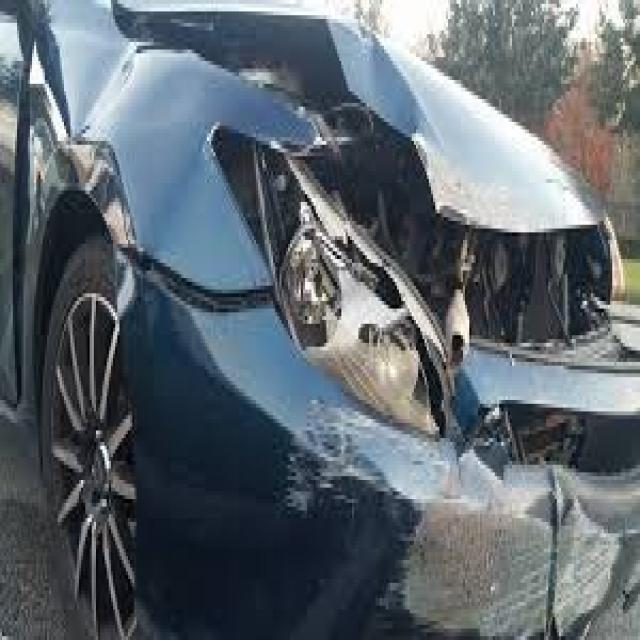moderate: (102, 0, 637, 634)
